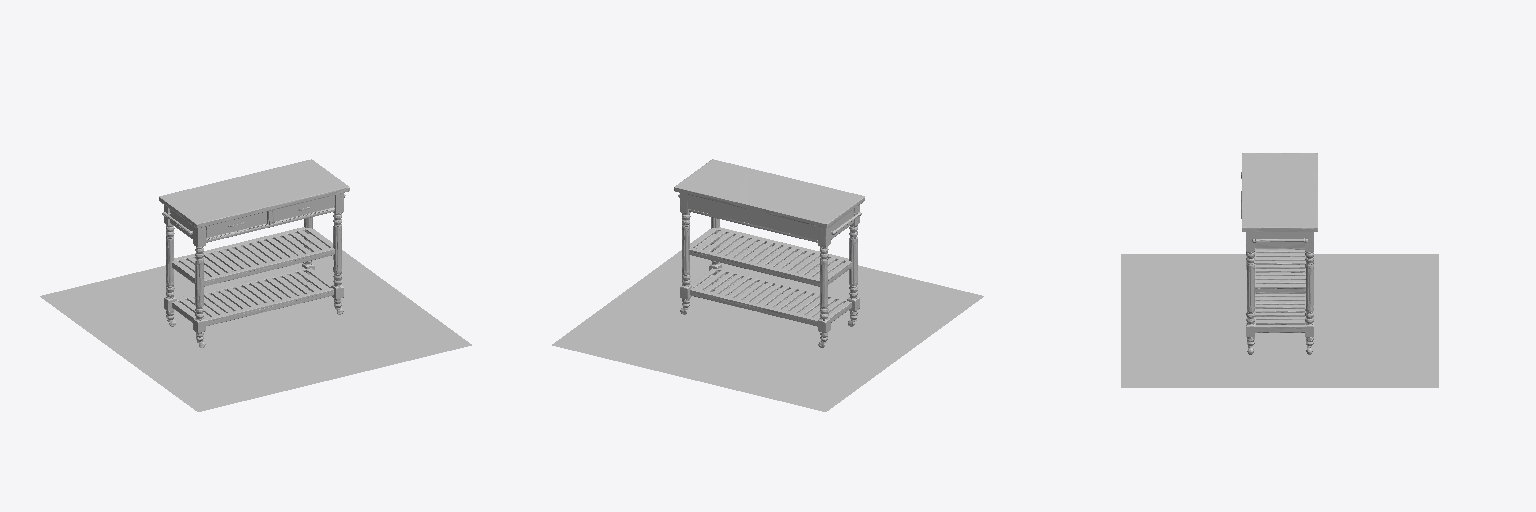
The model's file is TRPT2276.obj.
3 views of the same model, side by side, from view 1: azimuth 30°, elevation 25°; view 2: azimuth 150°, elevation 25°; view 3: azimuth 270°, elevation 25° (orthographic).
Visible parts, largest first — view 1: shadow_plane_v6, not_clear_obj_0_v6; view 2: shadow_plane_v6, not_clear_obj_0_v6; view 3: shadow_plane_v6, not_clear_obj_0_v6.
Part boxes in pixels (x1,y1,x2,y2): shadow_plane_v6: (40,229,471,411); not_clear_obj_0_v6: (159,159,349,342); shadow_plane_v6: (552,229,983,411); not_clear_obj_0_v6: (674,159,864,342); shadow_plane_v6: (1121,254,1438,387); not_clear_obj_0_v6: (1241,153,1317,345).
Size of the model in its own units: 215 by 96.93 by 215.